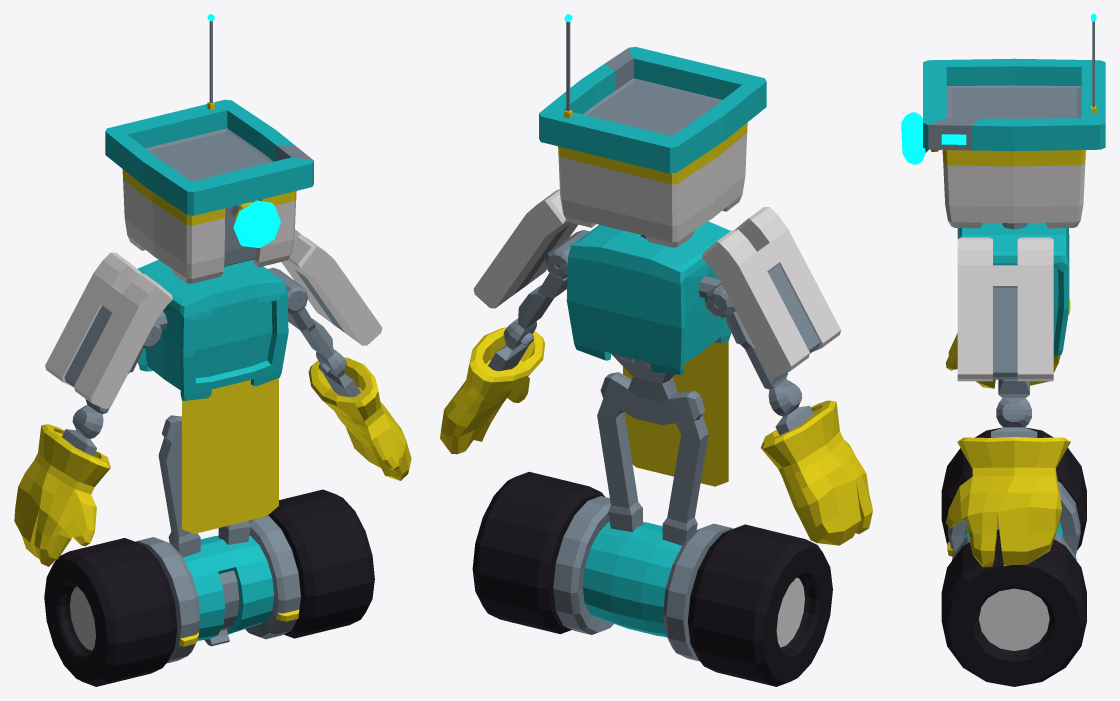
The model's file is ratastrophic_robot_white_lightblue.fbx.
3 views of the same model, side by side, from view 1: azimuth 30°, elevation 25°; view 2: azimuth 150°, elevation 25°; view 3: azimuth 270°, elevation 25° (orthographic). The views are drawn at different scales.
Visible parts, largest first — view 1: Robot; view 2: Robot; view 3: Robot.
Part boxes in pixels (x1,y1,x2,y2): Robot: (14, 14, 411, 686); Robot: (440, 14, 872, 686); Robot: (901, 14, 1105, 686).
Bounding box in the file's own units: 734 × 1130 × 333.
